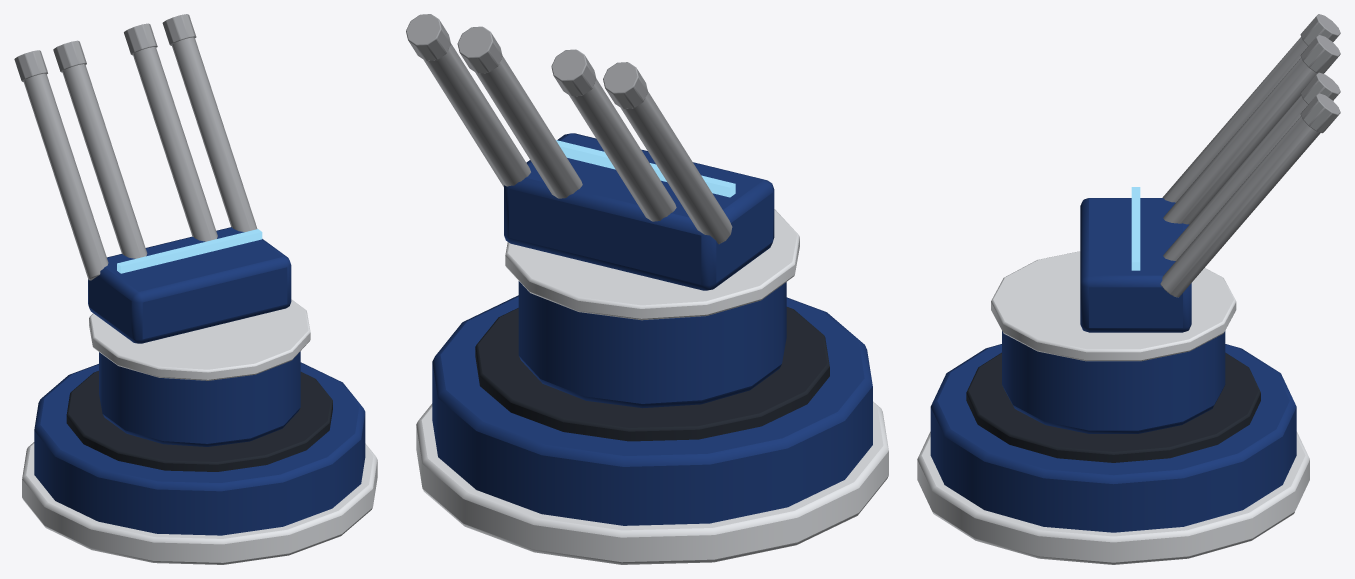
File: shibas_turret_air.glb
3 views of the same model, side by side, from view 1: azimuth 30°, elevation 25°; view 2: azimuth 150°, elevation 25°; view 3: azimuth 270°, elevation 25° (orthographic). The views are drawn at different scales.
Parts seen in each view (by area): view 1: base, cradle, mount, base_ring, mount_ring, base_top, barrel_-1_1, barrel_1_1, barrel_-1_0, barrel_1_0, radar_strip, cap_-1_0 (+3 smaller); view 2: base, mount, cradle, base_ring, base_top, mount_ring, barrel_-1_1, barrel_1_1, barrel_-1_0, barrel_1_0, cap_-1_0, cap_1_0 (+3 smaller); view 3: base, mount, base_ring, mount_ring, cradle, base_top, barrel_1_1, barrel_-1_0, barrel_-1_1, barrel_1_0, cap_1_1, cap_-1_0 (+3 smaller).
Boxes of the visible parts, x1,y1,x2,y2 form: base: (34,362,365,535); cradle: (88,227,291,343); mount: (99,351,300,446); base_ring: (22,442,377,564); mount_ring: (89,299,310,380); base_top: (66,371,332,471); barrel_-1_1: (23,73,108,280); barrel_1_1: (171,37,257,231); barrel_-1_0: (62,64,147,258); barrel_1_0: (133,47,217,241); radar_strip: (117,229,262,273); cap_-1_0: (53,40,86,72); base: (432,295,872,525); mount: (518,281,786,408); cradle: (504,133,774,290); base_ring: (416,401,888,564); base_top: (475,307,829,441); mount_ring: (505,209,799,320); barrel_-1_1: (621,91,732,244); barrel_1_1: (424,43,530,186); barrel_-1_0: (569,79,676,221); barrel_1_0: (475,56,582,198); cap_-1_0: (551,49,596,96); cap_1_0: (457,26,502,73); base: (930,344,1296,532); mount: (1002,331,1225,433); base_ring: (917,431,1309,564); mount_ring: (991,251,1236,361); cradle: (1080,198,1191,332); base_top: (966,352,1260,462); barrel_1_1: (1160,116,1320,297); barrel_-1_0: (1163,58,1317,224); barrel_-1_1: (1162,37,1307,202); barrel_1_0: (1163,95,1307,260); cap_1_1: (1300,93,1340,133); cap_-1_0: (1300,35,1340,73).
Size of the model in its own units: 1.76 by 2.15 by 1.9.
